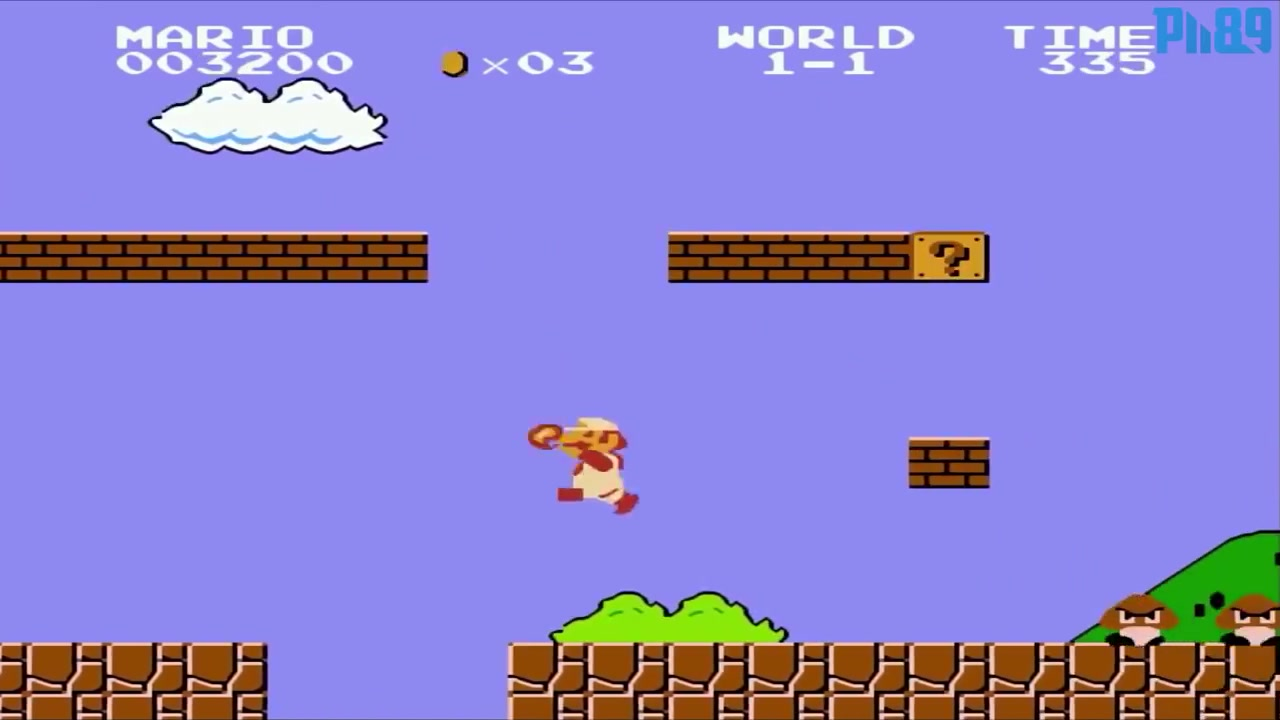mario: (543, 412, 637, 513)
